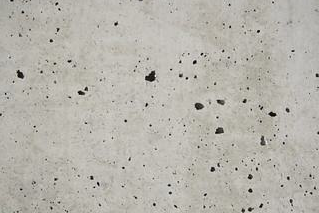Spalling: (1, 1, 319, 213)
